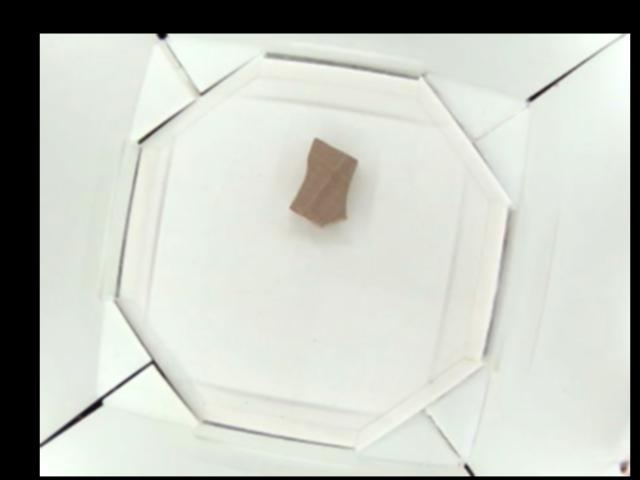China: (287, 136, 358, 226)
